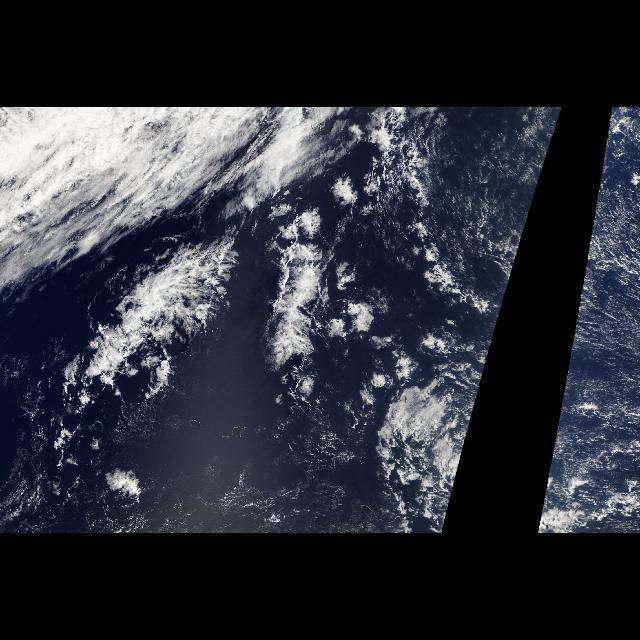Fish: (54, 195, 398, 415)
Flower: (311, 278, 424, 404)
Sugar: (545, 117, 639, 490), (460, 116, 562, 312)
